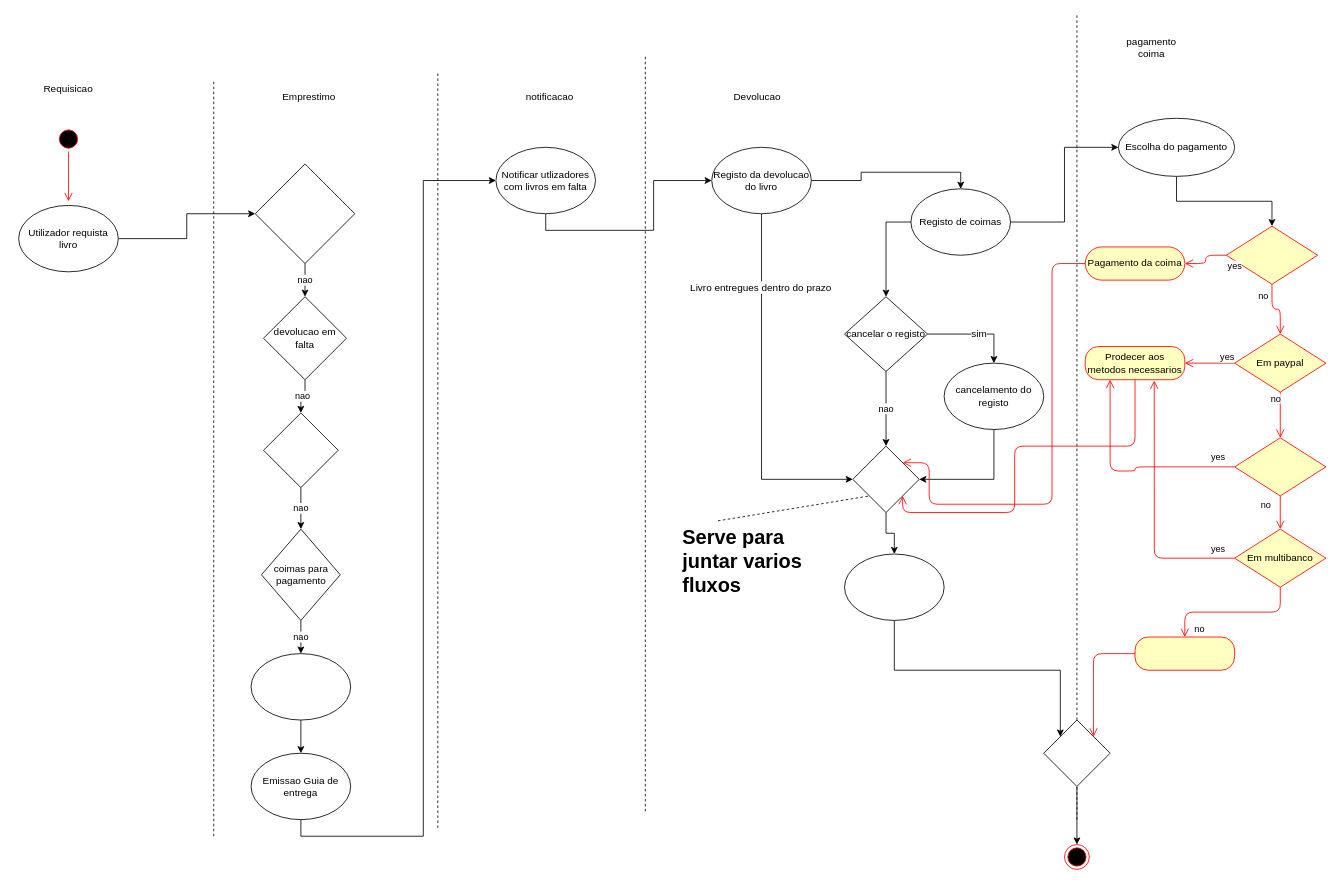
Image size: 1340x884. Some labels were removed from this diagram. The centre of each missing label's shape, as x and y in pixels:
"Cancelado pagamento" belongs at pixel 1184 653.
"Em dinheiro" belongs at pixel 1271 254.
"Em mbway" belongs at pixel 1280 466.
"Impressao do Talao de devolucao" belongs at pixel 894 586.
"max livros atingido" belongs at pixel 304 213.
"registo cancelado" belongs at pixel 300 450.
"Registo de emprestimo" belongs at pixel 300 686.
